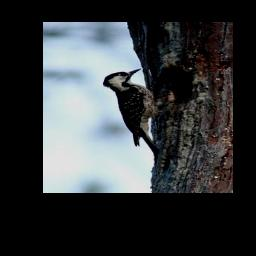Woodpecker: (101, 67, 182, 156)
